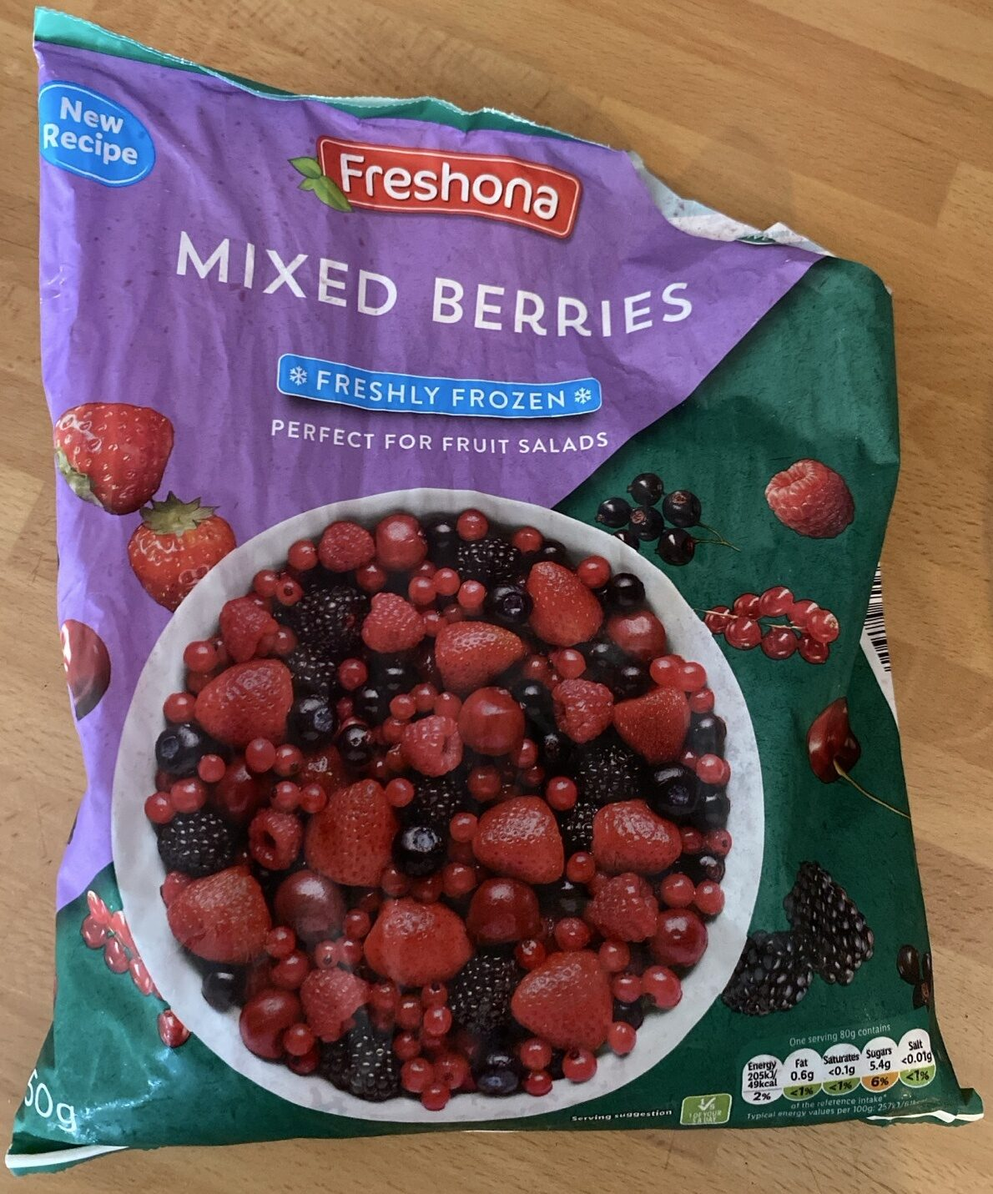TK - Beerenmischung: (50, 60, 943, 1134)
